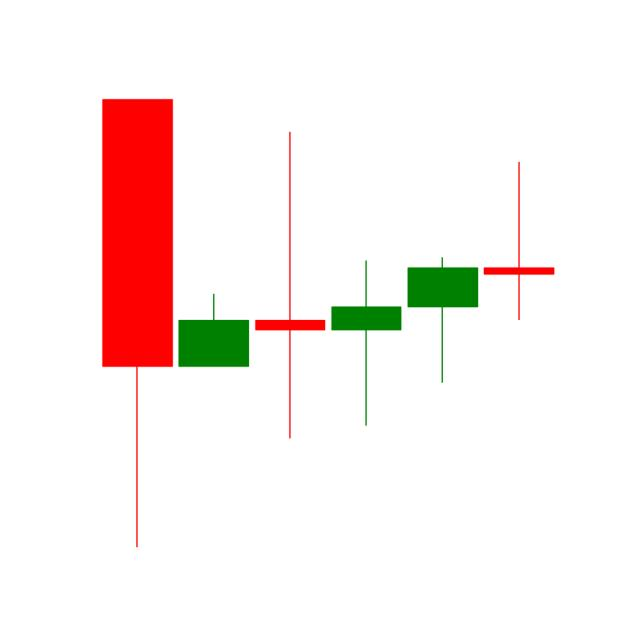Hammer: (406, 255, 480, 385)
Long-Legged Doji: (254, 125, 325, 440), (480, 159, 556, 325)
